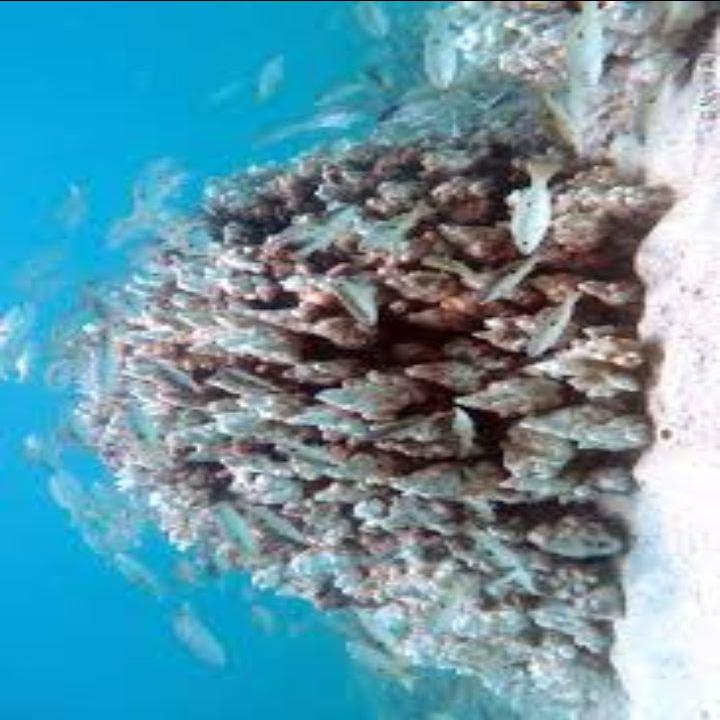Bleached disease: (138, 94, 642, 631)
